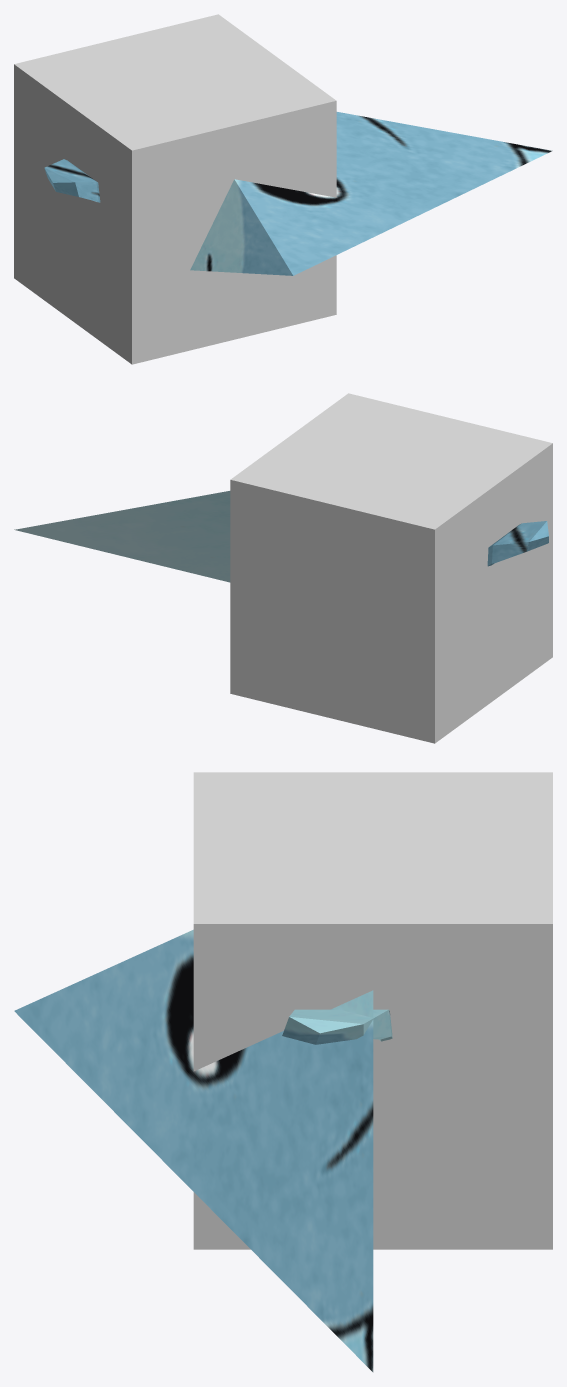
Rendered from flatSphere.fbx.
3 views of the same model, one above another, from view 1: azimuth 30°, elevation 25°; view 2: azimuth 150°, elevation 25°; view 3: azimuth 270°, elevation 25° (orthographic). The views are drawn at different scales.
Parts seen in each view (by area): view 1: Cube, Pyramid, Suzanne; view 2: Cube, Pyramid, Suzanne; view 3: Cube, Pyramid, Suzanne.
Part boxes in pixels (x1=…): Cube: x1=14, y1=14, x2=336, y2=364; Pyramid: x1=190, y1=112, x2=552, y2=275; Suzanne: x1=44, y1=159, x2=100, y2=202; Cube: x1=230, y1=393, x2=552, y2=743; Pyramid: x1=14, y1=491, x2=230, y2=582; Suzanne: x1=487, y1=521, x2=548, y2=566; Cube: x1=193, y1=772, x2=552, y2=1249; Pyramid: x1=14, y1=929, x2=373, y2=1372; Suzanne: x1=282, y1=1009, x2=392, y2=1044.
Bounding box in the file's own units: 5.06 × 2 × 3.
